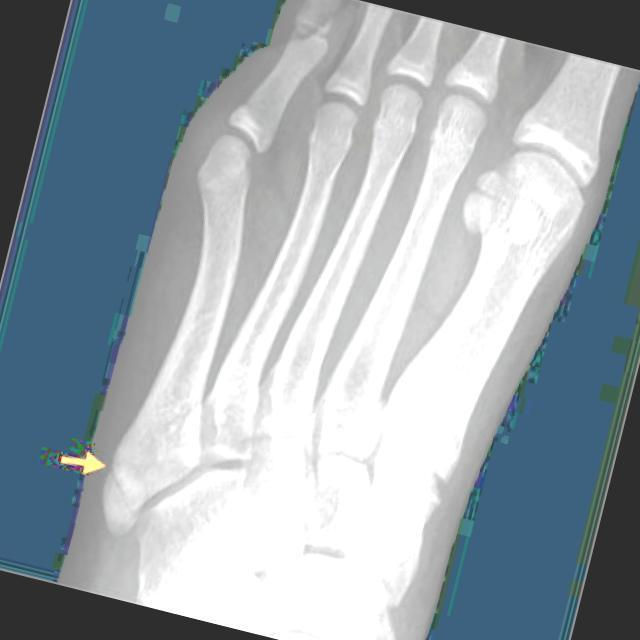Avlusion Fracture: (104, 445, 142, 522)
